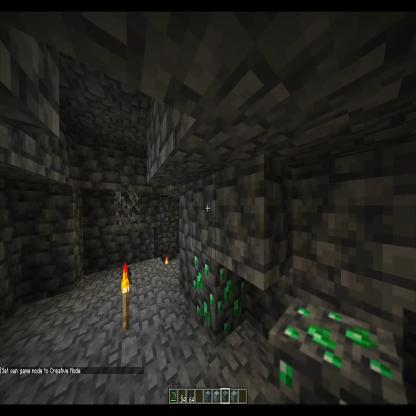emerald ore: (267, 296, 406, 416), (190, 249, 249, 350)
